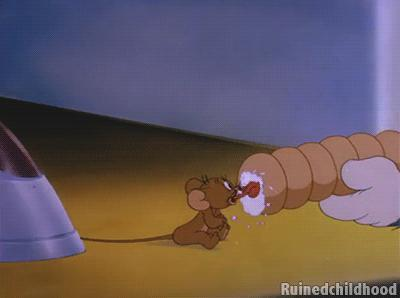jerry: (80, 172, 260, 251)
